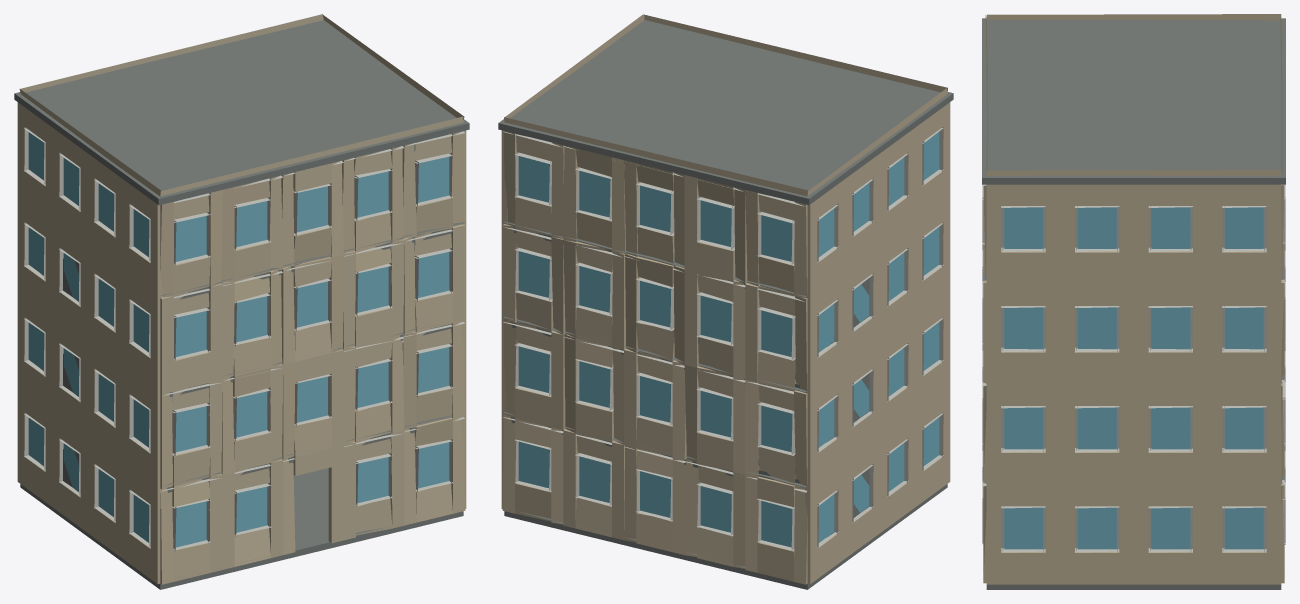
The model's file is architecture-apartment.lod1.glb.
3 renders of one model, left to right at view 1: azimuth 30°, elevation 25°; view 2: azimuth 150°, elevation 25°; view 3: azimuth 270°, elevation 25°, orthographic. The views are drawn at different scales.
Parts seen in each view (by area): view 1: architecture-apartment__body; view 2: architecture-apartment__body; view 3: architecture-apartment__body.
Boxes of the visible parts, x1=… form: architecture-apartment__body: x1=14, y1=14, x2=469, y2=589; architecture-apartment__body: x1=498, y1=14, x2=953, y2=589; architecture-apartment__body: x1=982, y1=14, x2=1285, y2=589.
Bounding box in the file's own units: 10.25 × 12.58 × 8.25.
